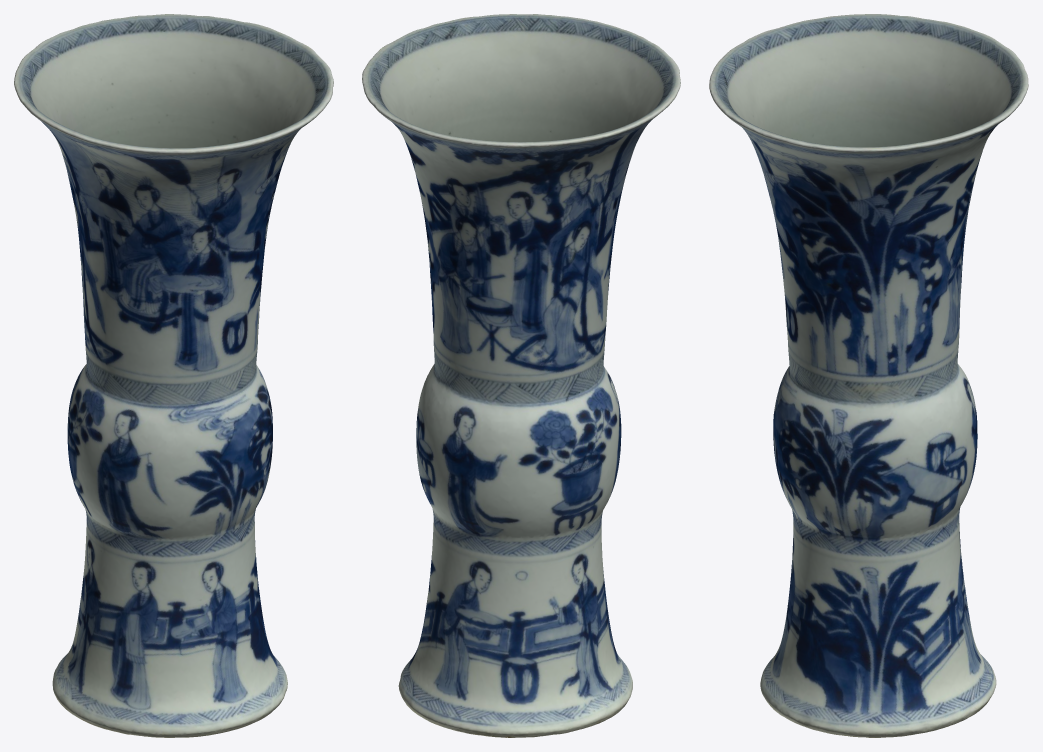
Rendered from f1980_194-mesh-smooth-textured-150k-2048-medium-100k-2048_std_draco.glb.
3 renders of one model, left to right at view 1: azimuth 30°, elevation 25°; view 2: azimuth 150°, elevation 25°; view 3: azimuth 270°, elevation 25°, orthographic.
Bounding box in the file's own units: 0.203 × 0.4311 × 0.2038.
1 material, 1 textured.
